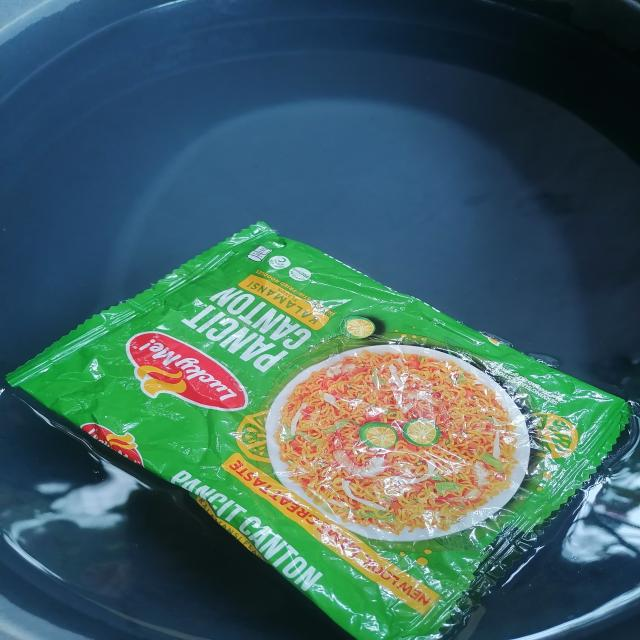Plastic Wrapper: (4, 223, 631, 640)
